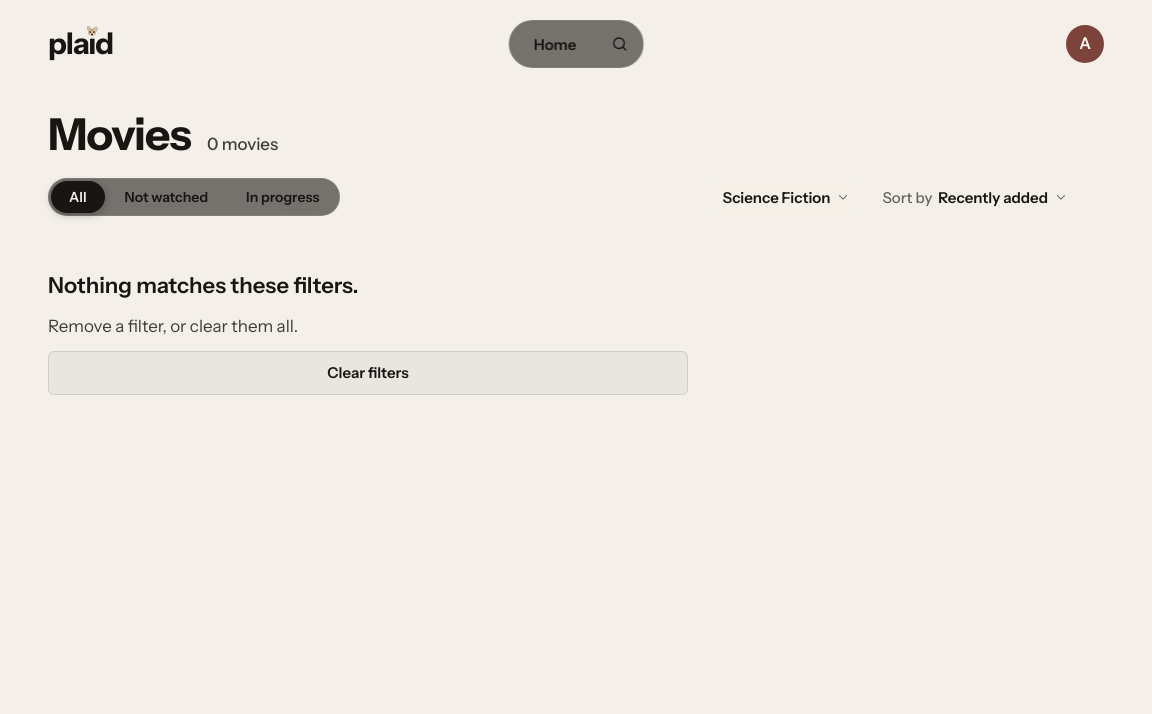
Test: library grid › keeps sort and genre in the URL, and says when nothing matches
Expected: the heading "Nothing matches these filters." is shown, [48,272,359,299]
Expected: the button with aria-label "Sort: Recently added" is shown, [870,178,1080,216]
Note: One genre at a time, applied as soon as it's picked.
Click the button with aria-label "Genre: Science Fiction".
click(787, 197)  # box [711,178,862,216]
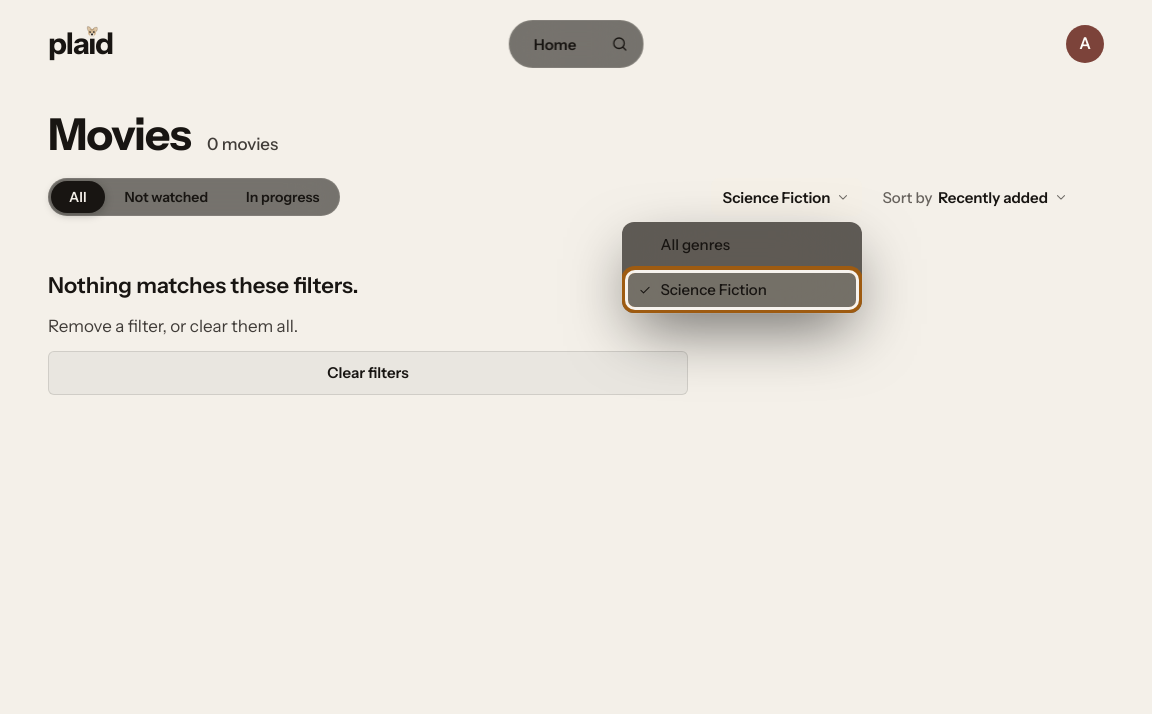
Click the menu item "All genres".
click(742, 245)  # box [628,228,856,262]
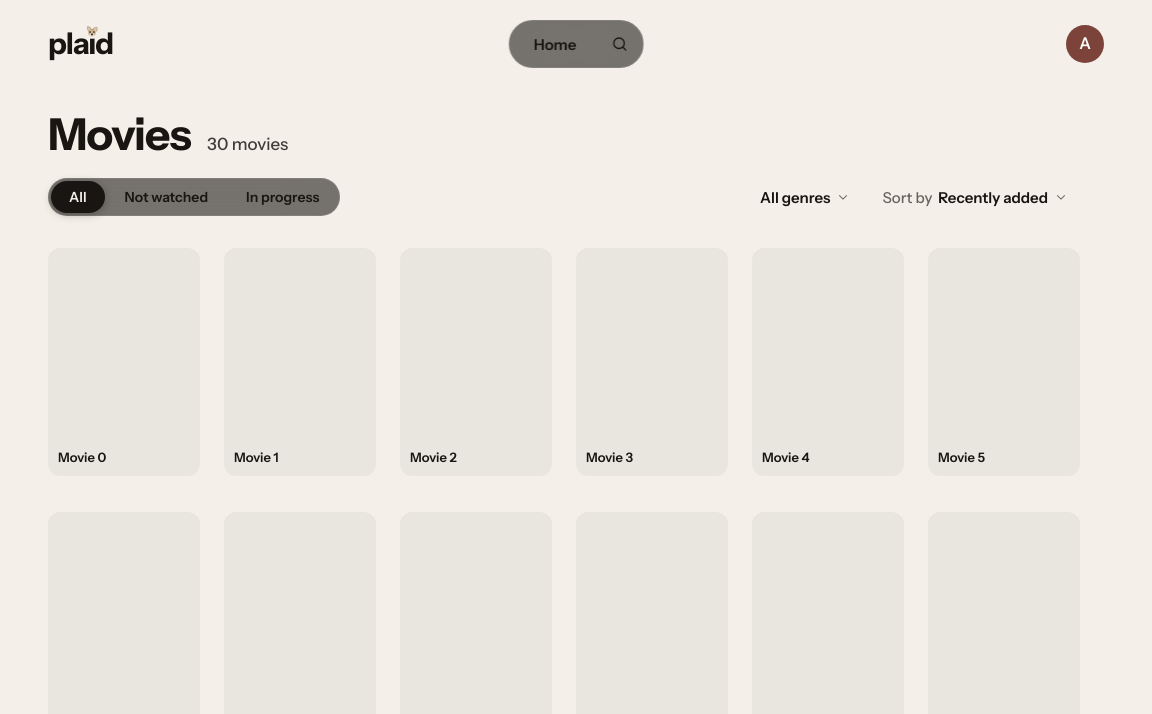
Now the text "30 movies" is shown, box [207,136,288,153]
Now the button with aria-label "Genre: All genres" is shown, box [748,178,862,216]
